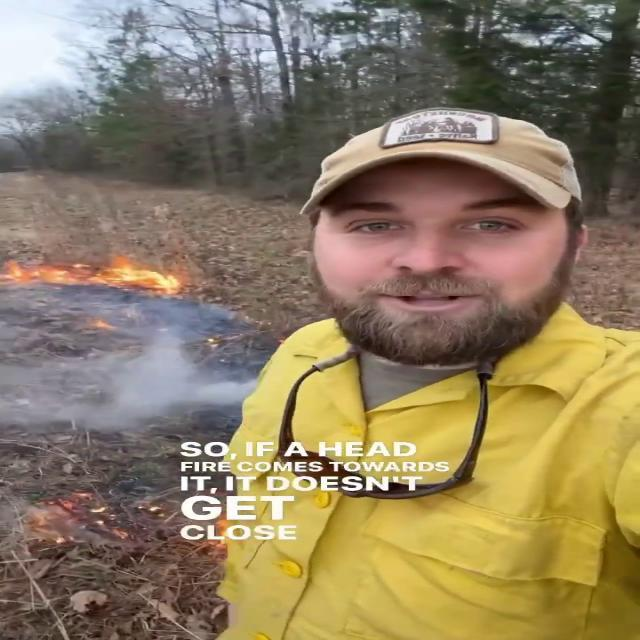Fire: (0, 250, 188, 296)
Smoke: (0, 292, 244, 436)
